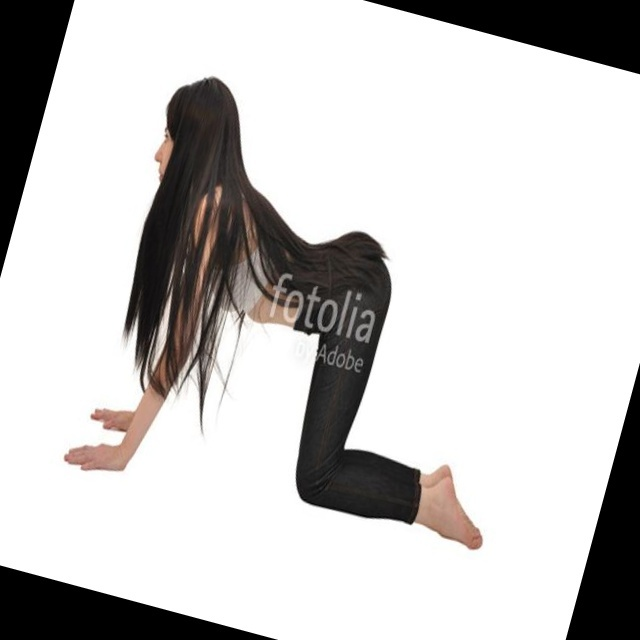Cow_Pose: (60, 75, 484, 551)
